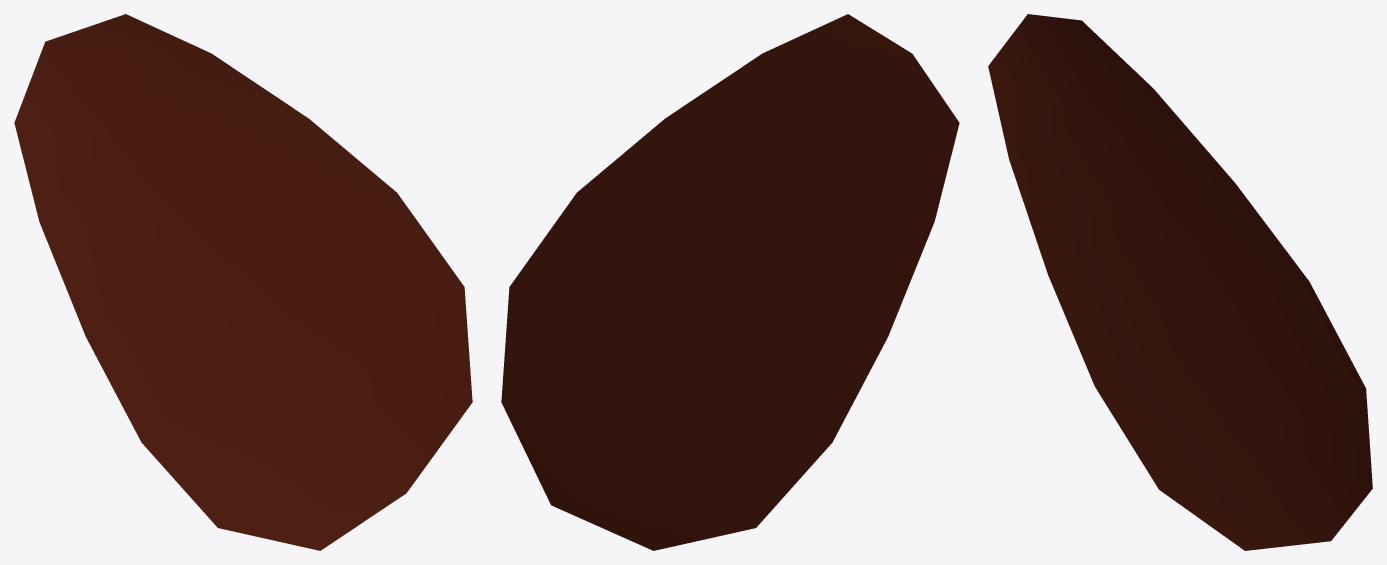
Rendered from finch_feather_flight_tertiary_055.obj.
3 renders of one model, left to right at view 1: azimuth 30°, elevation 25°; view 2: azimuth 150°, elevation 25°; view 3: azimuth 330°, elevation 25°, orthographic. The views are drawn at different scales.
Visible parts, largest first — view 1: feather_flight_tertiary_055; view 2: feather_flight_tertiary_055; view 3: feather_flight_tertiary_055.
Boxes of the visible parts, x1,y1,x2,y2 form: feather_flight_tertiary_055: [14, 14, 472, 550]; feather_flight_tertiary_055: [501, 14, 959, 550]; feather_flight_tertiary_055: [988, 14, 1372, 550].
Bounding box in the file's own units: 0.00496 × 0.00604 × 0.000153.
